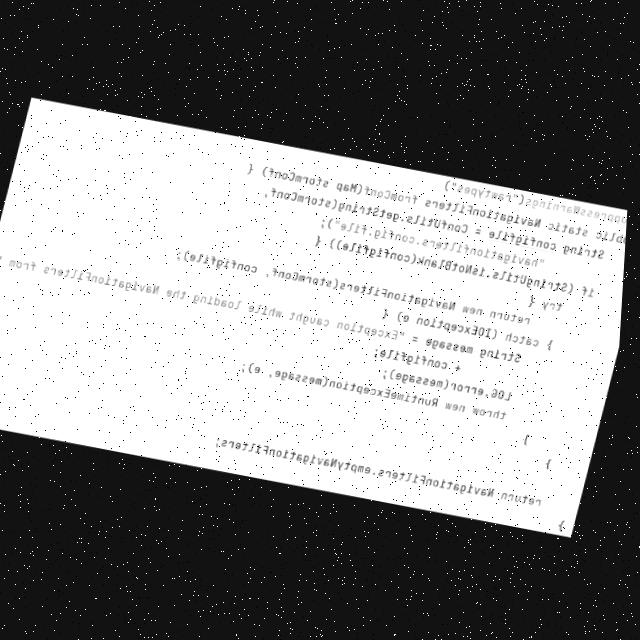code_screen: (0, 100, 627, 536)
